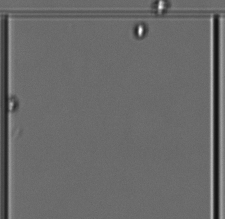Living Cell: (132, 21, 149, 40), (151, 1, 169, 15)
